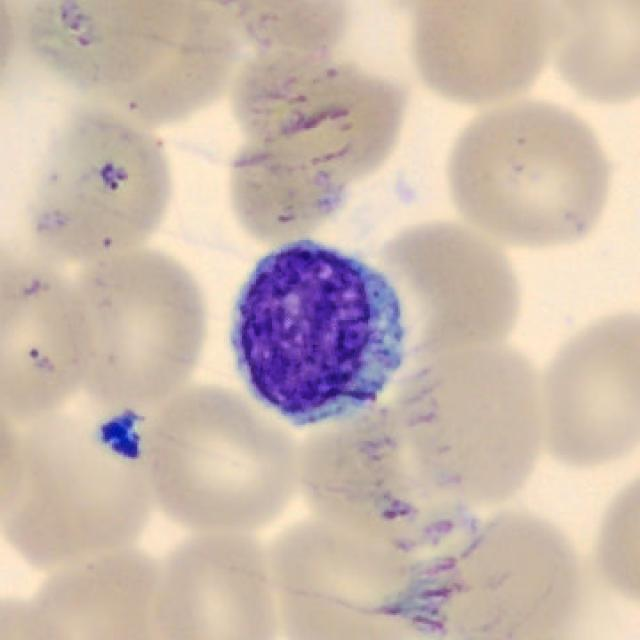Linfocito atipico: (229, 240, 407, 430)
